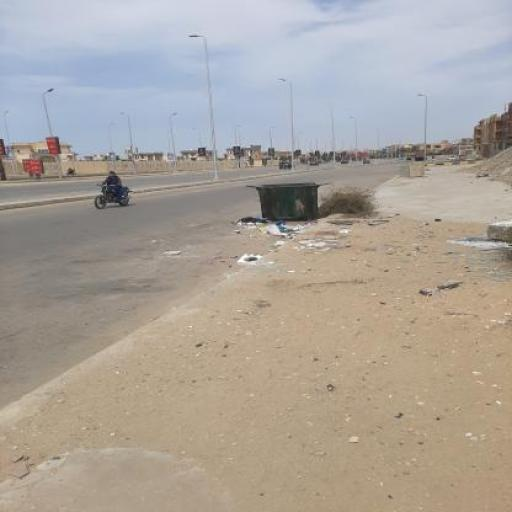street light: (188, 35, 221, 179), (42, 89, 63, 181), (280, 79, 296, 172), (118, 112, 136, 172), (4, 111, 17, 176), (417, 94, 428, 164), (170, 112, 178, 172), (348, 117, 358, 165), (108, 123, 116, 174)
